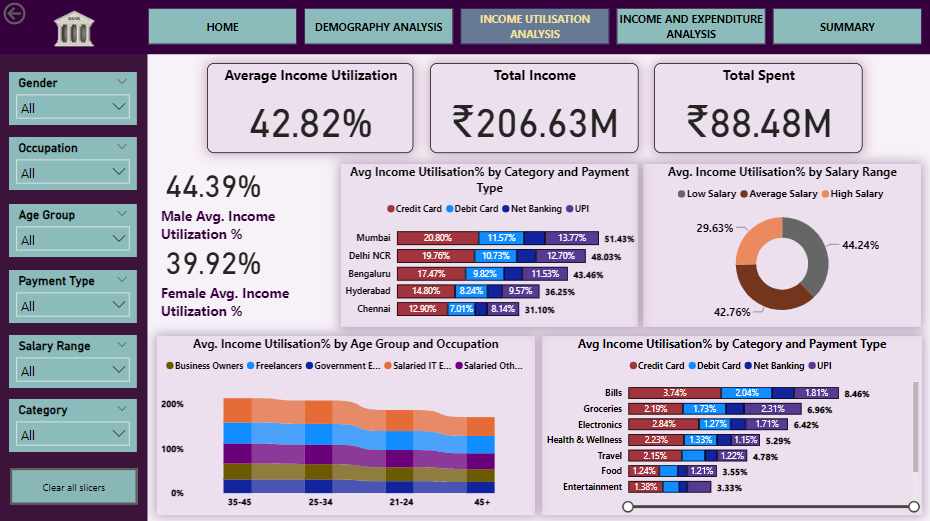

The page's visual inventory and layout, read from the dashboard file:
{"tool":"powerbi","page":{"name":"INCOME UTILISATION ANALYSIS ","canvas":[1280,720],"ordinal":2},"visuals":[{"type":"shape","box":[0,0,1280.2,76.3],"z":0},{"type":"group","id":"g1","title":"Group 2","box":[216,213.7,241.9,138.2],"z":0,"group":"g4"},{"type":"card","fields":{"Values":["ALL Measures.Male_Avg_Income_utilisation%"]},"box":[216,213.7,155.5,80.6],"z":0,"group":"g1"},{"type":"card","fields":{"Values":["ALL Measures.Female_Avg_Income_utilisation%"]},"box":[216,320.3,155.5,80.6],"z":0,"group":"g2"},{"type":"pageNavigator","box":[203,13,1065.6,50.4],"z":1000},{"type":"textbox","box":[216,281.4,241.9,70.6],"z":1000,"group":"g1"},{"type":"group","id":"g2","title":"Group 2","box":[216,320.3,241.9,138.2],"z":1000,"group":"g4"},{"type":"textbox","box":[216,388,241.9,70.6],"z":1000,"group":"g2"},{"type":"image","box":[56.2,7.2,90.7,69.1],"z":2000},{"type":"shape","box":[0,76.3,203,643.7],"z":3000},{"type":"slicer","fields":{"Values":["dim_customers.gender"]},"box":[13,100.8,175.7,73.4],"z":4000},{"type":"actionButton","box":[14.4,645.1,175.7,50.4],"z":5000},{"type":"slicer","fields":{"Values":["dim_customers.occupation"]},"box":[13,190.1,175.7,73.4],"z":6000},{"type":"slicer","fields":{"Values":["dim_customers.age_group"]},"box":[13,282.2,175.7,73.4],"z":7000},{"type":"slicer","fields":{"Values":["fact_spends.payment_type"]},"box":[13,373,175.7,73.4],"z":8000},{"type":"slicer","fields":{"Values":["dim_customers.Salary Range"]},"box":[13,462.2,175.7,73.4],"z":9000},{"type":"slicer","fields":{"Values":["fact_spends.category"]},"box":[13,550.1,175.7,73.4],"z":10000},{"type":"barChart","title":"Avg Income Utilisation% by Category and Payment Type","fields":{"Category":["fact_spends.category"],"Y":["ALL Measures.Avg_Income_Utilization%"],"Series":["fact_spends.payment_type"]},"box":[745.9,463.7,522.7,246.2],"z":11000},{"type":"ribbonChart","title":"Avg. Income Utilisation% by Age Group and Occupation","fields":{"Category":["dim_customers.age_group"],"Y":["ALL Measures.Avg_Income_Utilization%"],"Series":["dim_customers.occupation"]},"box":[216,463.7,519.8,246.2],"z":12000},{"type":"donutChart","title":"Avg. Income Utilisation% by Salary Range","fields":{"Category":["dim_customers.Salary Range"],"Y":["ALL Measures.Avg_Income_Utilization%"]},"box":[885.6,227.5,383,224.6],"z":13000},{"type":"group","id":"g3","title":"Group 1","box":[285.1,87.8,901.4,123.8],"z":14000},{"type":"card","title":"Average Income Utilization ","fields":{"Values":["ALL Measures.Avg_Income_Utilization%"]},"box":[285.1,87.8,283.7,123.8],"z":15000,"group":"g3"},{"type":"barChart","title":"Avg Income Utilisation% by Category and Payment Type","fields":{"Y":["ALL Measures.Avg_Income_Utilization%"],"Series":["fact_spends.payment_type"],"Category":["dim_customers.city"]},"box":[469.4,227.5,409,224.6],"z":15000},{"type":"card","title":"Total Income ","fields":{"Values":["Sum(dim_customers.avg_income)"]},"box":[591.8,87.8,286.6,123.8],"z":16000,"group":"g3"},{"type":"group","id":"g4","title":"Group 3","box":[216,213.7,241.9,244.8],"z":16000},{"type":"actionButton","box":[0,0,100,40],"z":17000},{"type":"card","title":"Total Spent","fields":{"Values":["ALL Measures.avg_spend_each_customer"]},"box":[900,87.8,286.6,123.8],"z":17000,"group":"g3"}]}

Visuals, with their boxes in screenshot pixels (x1, y1, x2, y2), scaled from the page's 1280x720 canvas onto the 930x521 screenshot:
shape: <box>0,0,929,55</box>
"Group 2" group: <box>157,155,333,255</box>
card - ALL Measures.Male_Avg_Income_utilisation%: <box>157,155,270,213</box>
card - ALL Measures.Female_Avg_Income_utilisation%: <box>157,232,270,290</box>
pageNavigator: <box>147,9,922,46</box>
textbox: <box>157,204,333,255</box>
"Group 2" group: <box>157,232,333,332</box>
textbox: <box>157,281,333,332</box>
image: <box>41,5,107,55</box>
shape: <box>0,55,147,520</box>
slicer - dim_customers.gender: <box>9,73,137,126</box>
actionButton: <box>10,467,138,503</box>
slicer - dim_customers.occupation: <box>9,138,137,191</box>
slicer - dim_customers.age_group: <box>9,204,137,257</box>
slicer - fact_spends.payment_type: <box>9,270,137,323</box>
slicer - dim_customers.Salary Range: <box>9,334,137,388</box>
slicer - fact_spends.category: <box>9,398,137,451</box>
"Avg Income Utilisation% by Category and Payment Type" barChart: <box>542,336,922,514</box>
"Avg. Income Utilisation% by Age Group and Occupation" ribbonChart: <box>157,336,535,514</box>
"Avg. Income Utilisation% by Salary Range" donutChart: <box>643,165,922,327</box>
"Group 1" group: <box>207,64,862,153</box>
"Average Income Utilization " card: <box>207,64,413,153</box>
"Avg Income Utilisation% by Category and Payment Type" barChart: <box>341,165,638,327</box>
"Total Income " card: <box>430,64,638,153</box>
"Group 3" group: <box>157,155,333,332</box>
actionButton: <box>0,0,73,29</box>
"Total Spent" card: <box>654,64,862,153</box>
